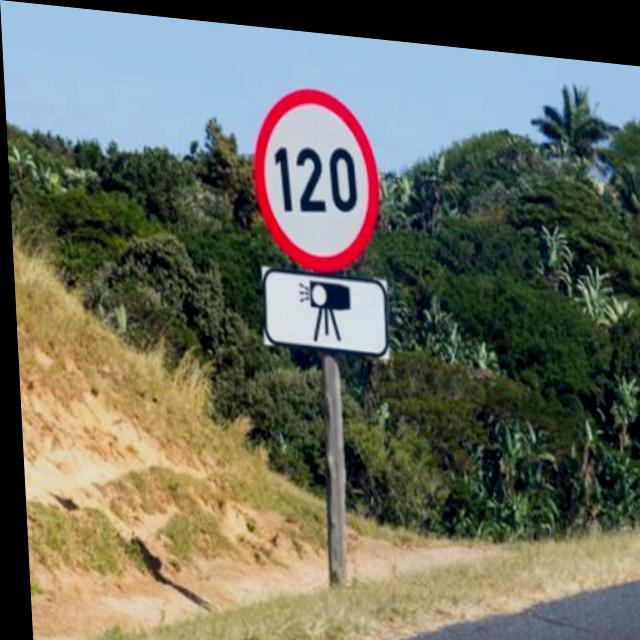limit120: (246, 72, 383, 276)
